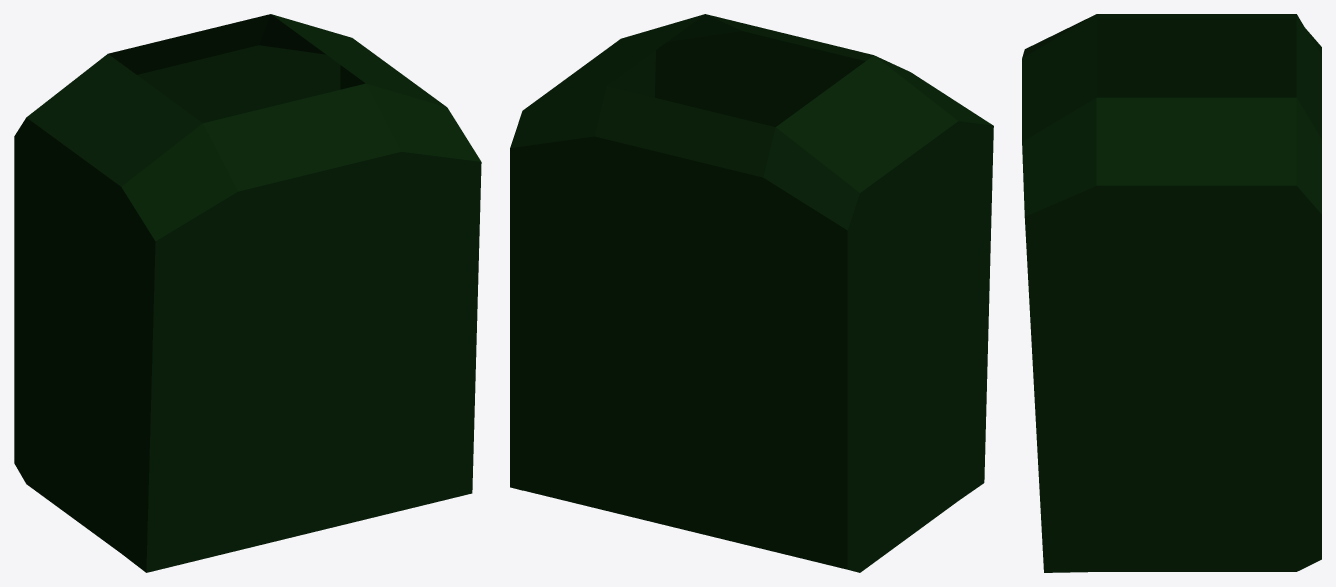
File: body.obj
3 renders of one model, left to right at view 1: azimuth 30°, elevation 25°; view 2: azimuth 150°, elevation 25°; view 3: azimuth 270°, elevation 25°, orthographic. The views are drawn at different scales.
Visible parts, largest first — view 1: body; view 2: body; view 3: body.
Part boxes in pixels (box(x1,y1,x2,y2)): body: box(14, 14, 481, 572); body: box(510, 14, 993, 572); body: box(1022, 14, 1321, 572).
Bounding box in the file's own units: 0.191 × 0.2303 × 0.1445.
